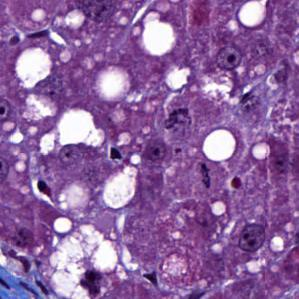ballooning: (42, 220, 127, 298), (93, 63, 135, 106)
